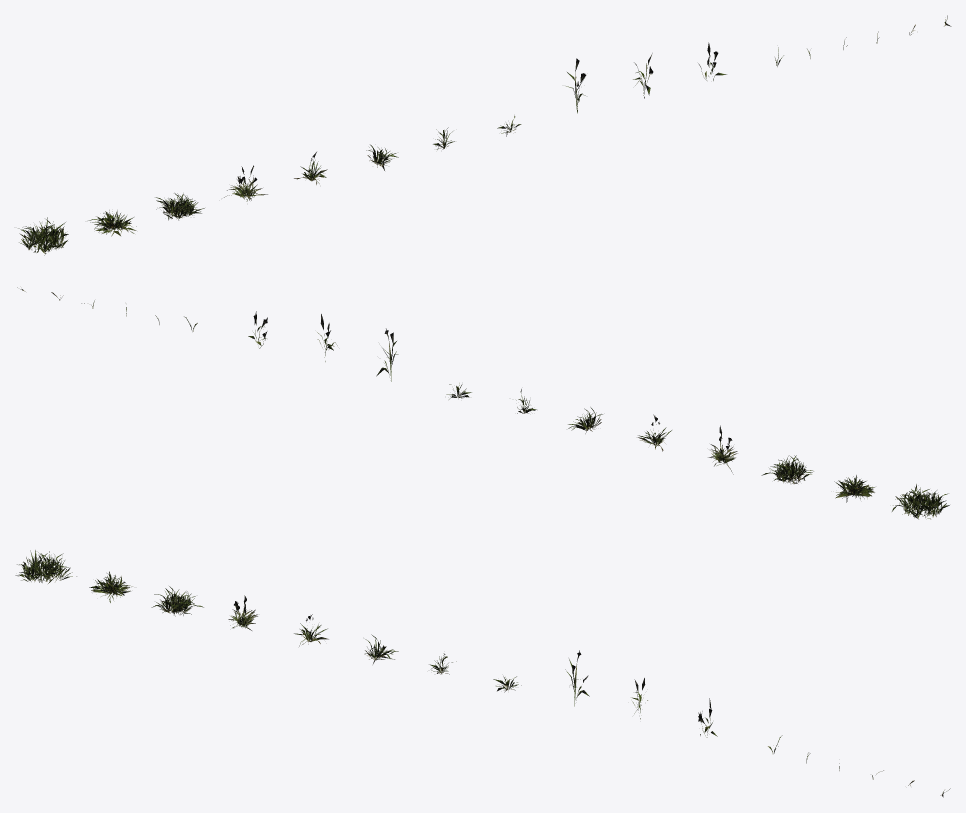
The model's file is grass_medium_01.glb.
The picture shows the model from 3 angles, top to bottom: view 1: azimuth 30°, elevation 25°; view 2: azimuth 150°, elevation 25°; view 3: azimuth 330°, elevation 25°; orthographic projection.
Parts seen in each view (by area): view 1: grass_medium_01_large_a_LOD0, grass_medium_01_large_c_LOD0, grass_medium_01_large_b_LOD0; view 2: grass_medium_01_large_a_LOD0, grass_medium_01_large_c_LOD0, grass_medium_01_large_b_LOD0; view 3: grass_medium_01_large_a_LOD0, grass_medium_01_large_c_LOD0, grass_medium_01_large_b_LOD0.
Part boxes in pixels (left/top/right/bottom): grass_medium_01_large_a_LOD0: left=18, top=217, right=68, bottom=255; grass_medium_01_large_c_LOD0: left=155, top=193, right=204, bottom=220; grass_medium_01_large_b_LOD0: left=88, top=210, right=136, bottom=236; grass_medium_01_large_a_LOD0: left=892, top=484, right=949, bottom=519; grass_medium_01_large_c_LOD0: left=761, top=455, right=813, bottom=483; grass_medium_01_large_b_LOD0: left=834, top=475, right=874, bottom=502; grass_medium_01_large_a_LOD0: left=15, top=550, right=76, bottom=583; grass_medium_01_large_c_LOD0: left=151, top=586, right=203, bottom=616; grass_medium_01_large_b_LOD0: left=89, top=571, right=132, bottom=602.
Size of the model in its own units: 5.6 by 0.3426 by 0.3264.
Materials: 1 (1 with a texture image).
